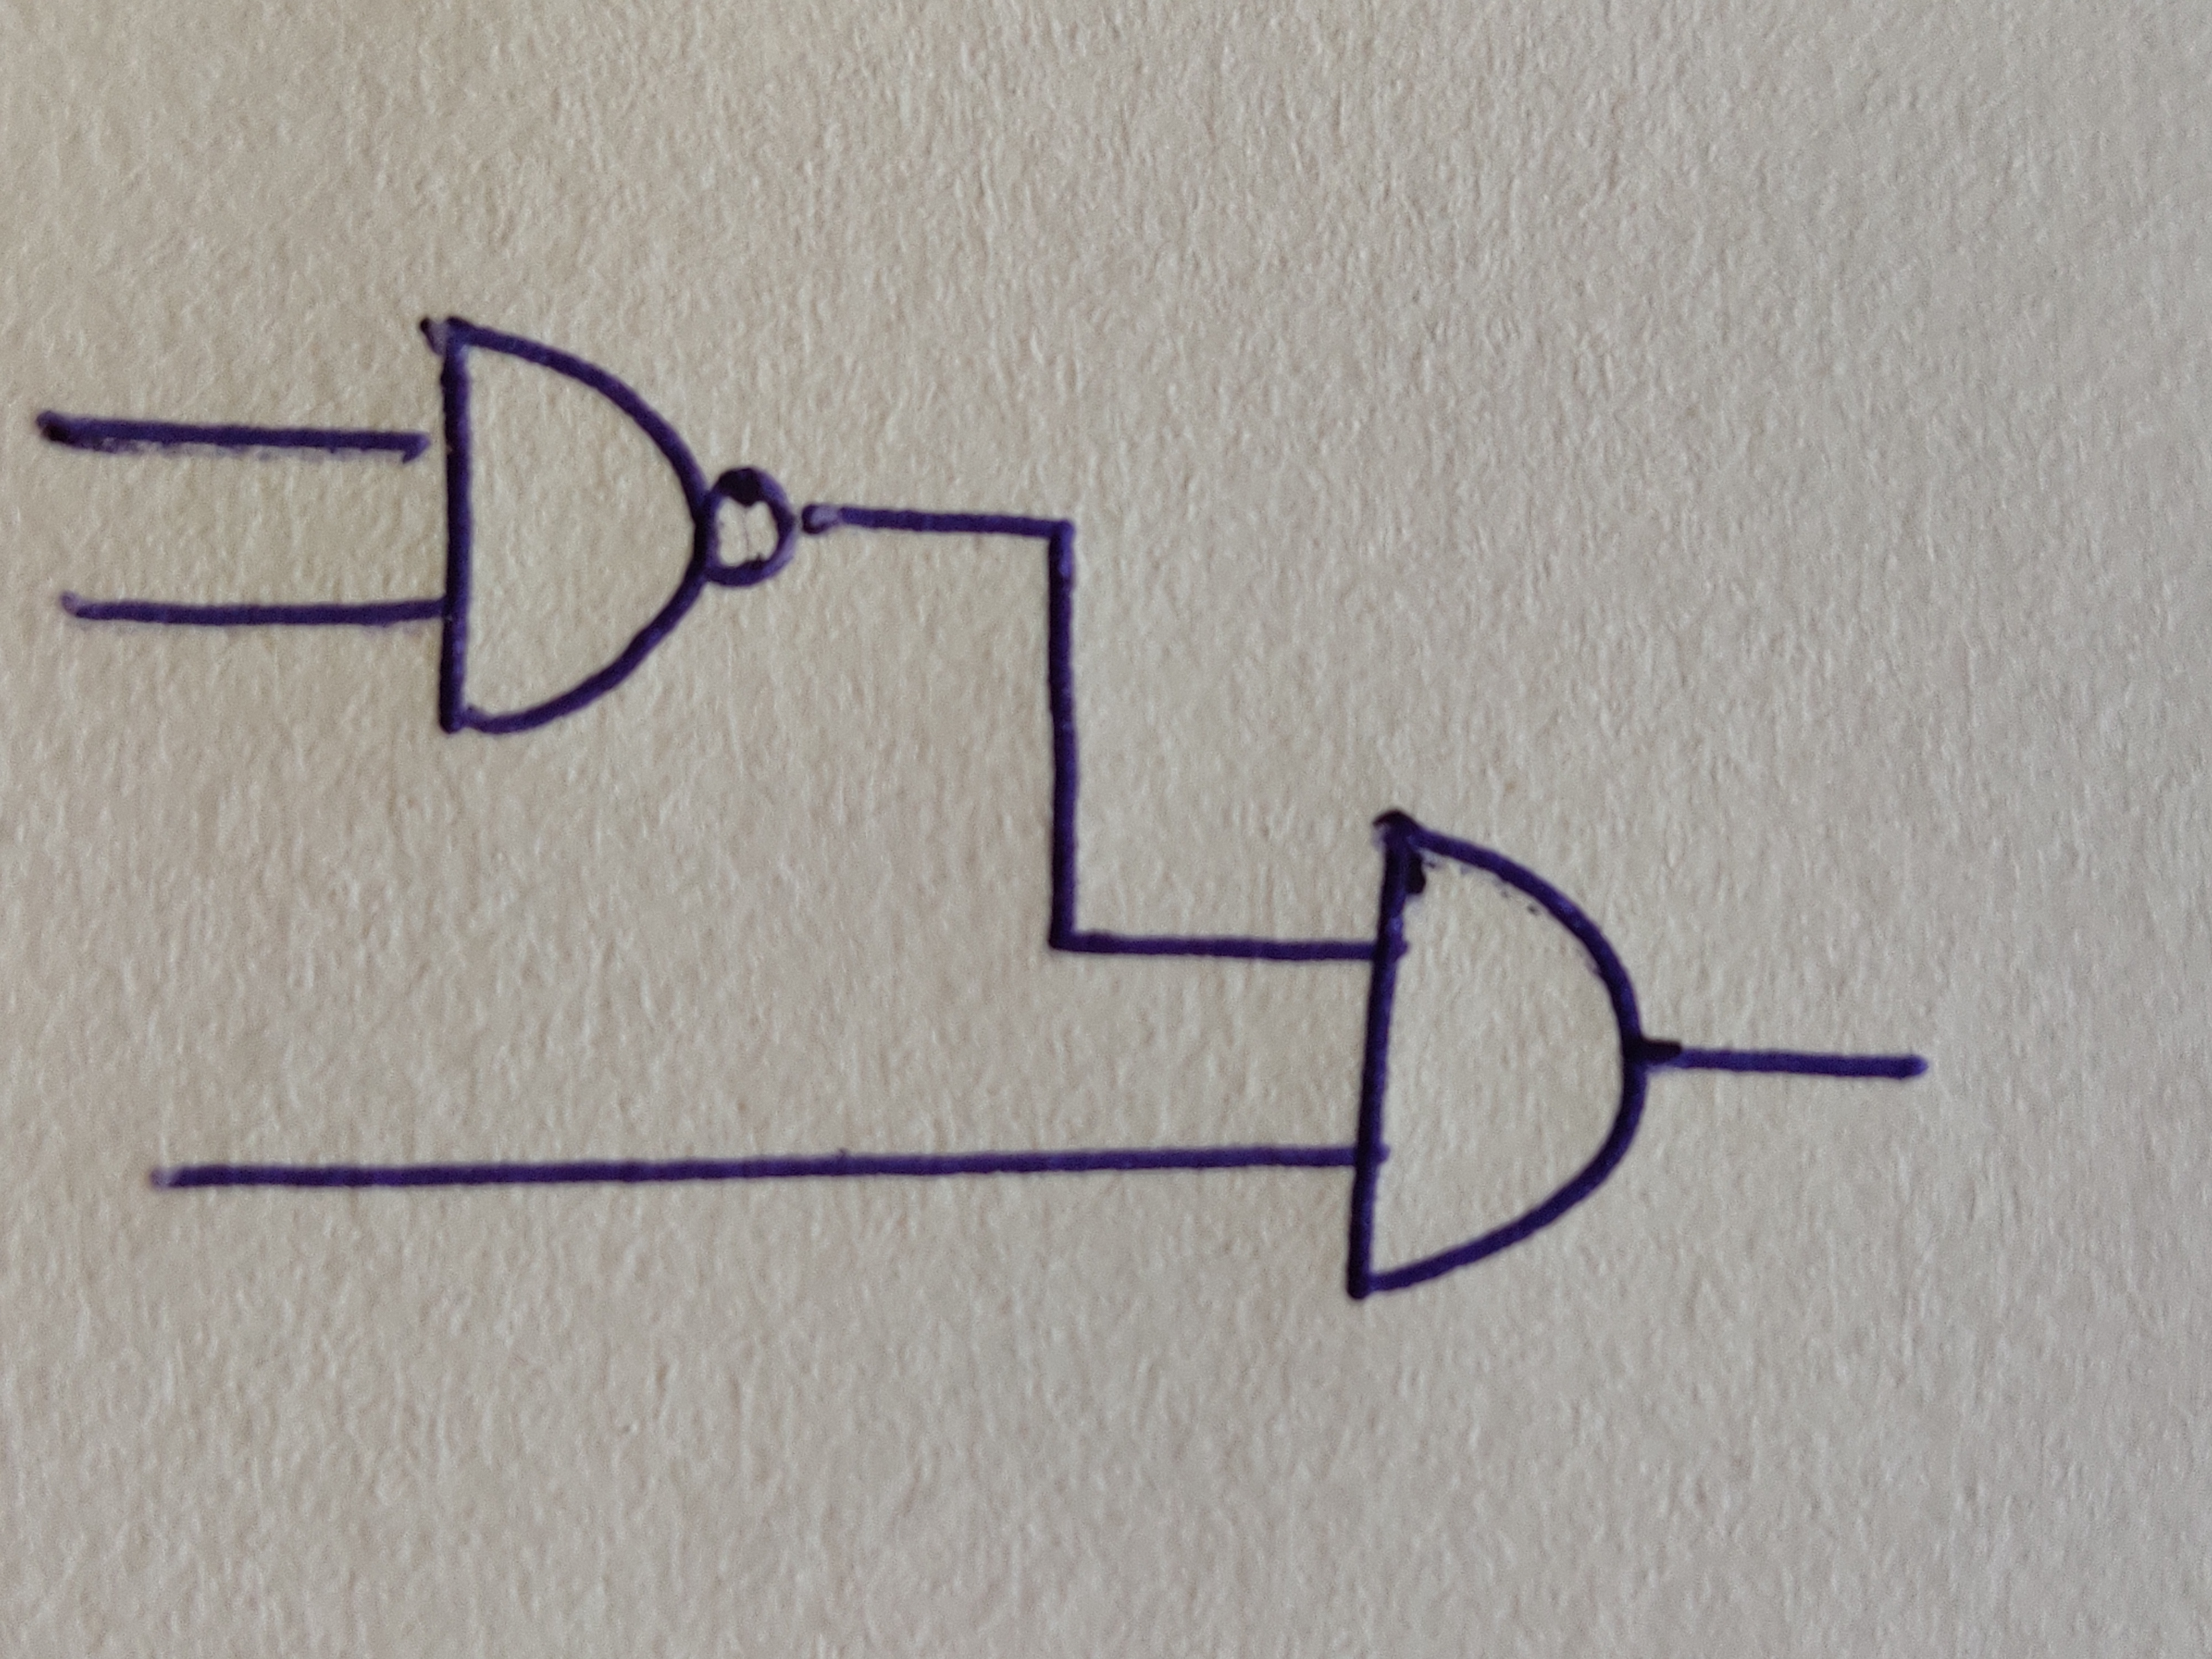and: (1350, 810, 1646, 1303), (420, 314, 721, 732)
not: (705, 465, 796, 591)
